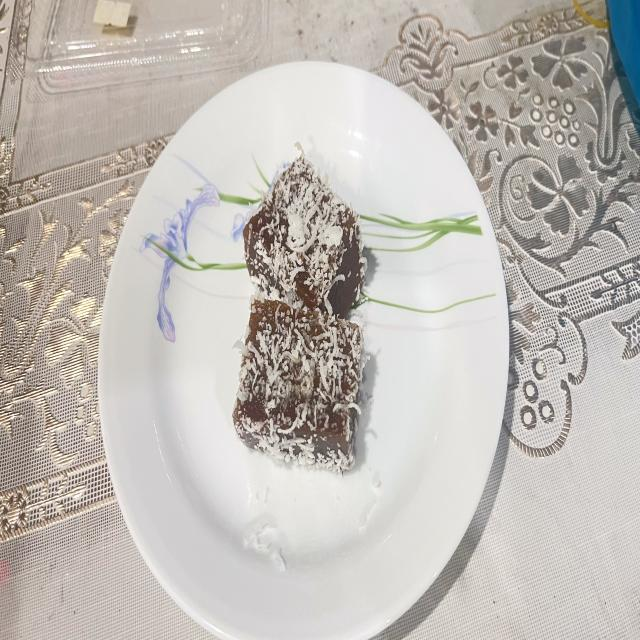kaswi: (232, 298, 365, 473), (242, 149, 366, 318)
